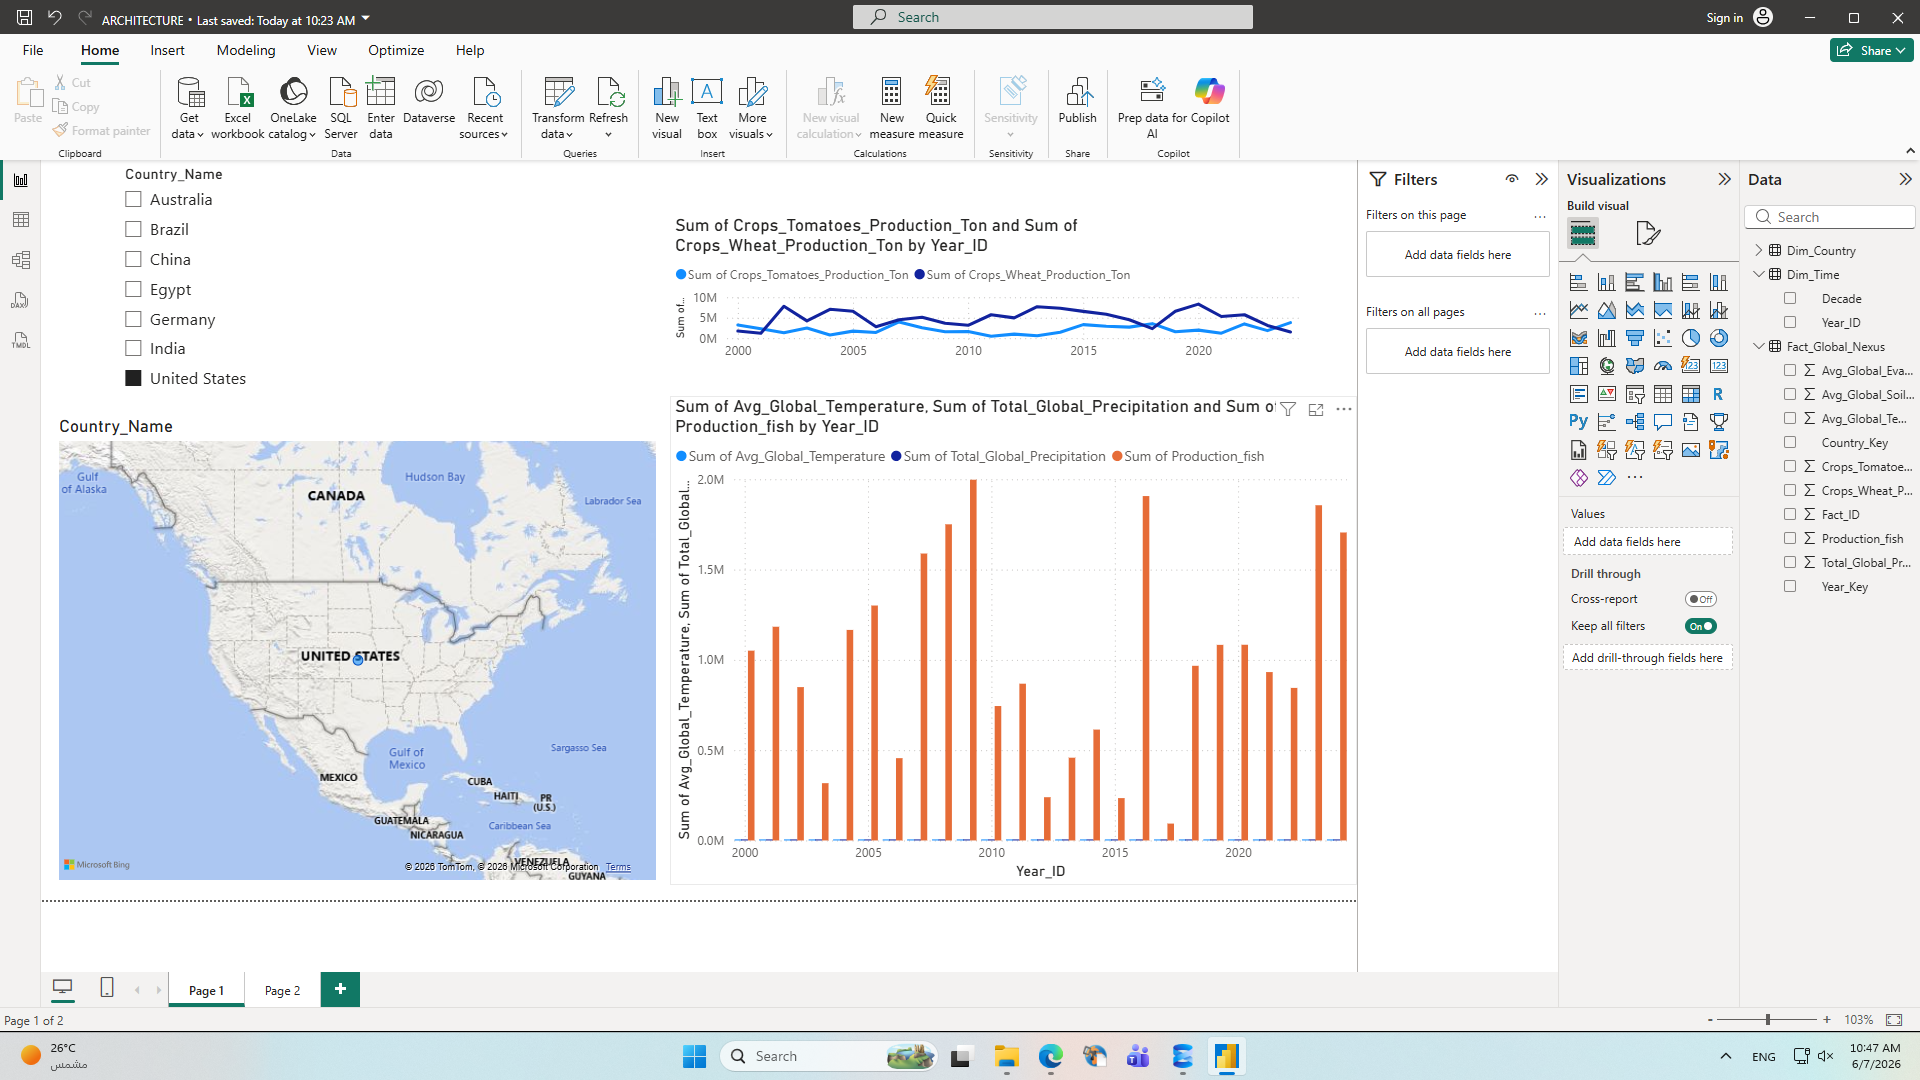

Layout of this report page (visuals, bound fields, positions):
{"tool":"powerbi","page":{"name":"Page 1","canvas":[1280,720],"ordinal":0},"visuals":[{"type":"slicer","fields":{"Values":["Dim_Country.Country_Name"]},"box":[69.1,0,280.1,280.1],"z":0},{"type":"lineChart","fields":{"Category":["Dim_Time.Year_ID"],"Y":["Sum(Fact_Global_Nexus.Crops_Tomatoes_Production_Ton)","Sum(Fact_Global_Nexus.Crops_Wheat_Production_Ton)"]},"box":[611.8,53.5,621.5,149.8],"z":1000},{"type":"map","fields":{"Category":["Dim_Country.Country_Name"]},"box":[12.6,249,591.4,456.2],"z":2000},{"type":"clusteredColumnChart","fields":{"Y":["Sum(Fact_Global_Nexus.Avg_Global_Temperature)","Sum(Fact_Global_Nexus.Total_Global_Precipitation)","Sum(Fact_Global_Nexus.Production_MT)"],"Category":["Dim_Time.Year_ID"]},"box":[611.8,229.5,668.2,475.6],"z":3000}]}

Visuals, with their boxes on the page's 1280x720 design canvas (x1, y1, x2, y2). These are canvas units, not pixel positions in the 1920x1080 screenshot, which may show the page scaled, cropped or inside an application window:
slicer - Dim_Country.Country_Name: [69, 0, 349, 280]
lineChart - Dim_Time.Year_ID x Sum(Fact_Global_Nexus.Crops_Tomatoes_Production_Ton): [612, 54, 1233, 203]
map - Dim_Country.Country_Name: [13, 249, 604, 705]
clusteredColumnChart - Sum(Fact_Global_Nexus.Avg_Global_Temperature) x Sum(Fact_Global_Nexus.Total_Global_Precipitation): [612, 230, 1280, 705]
